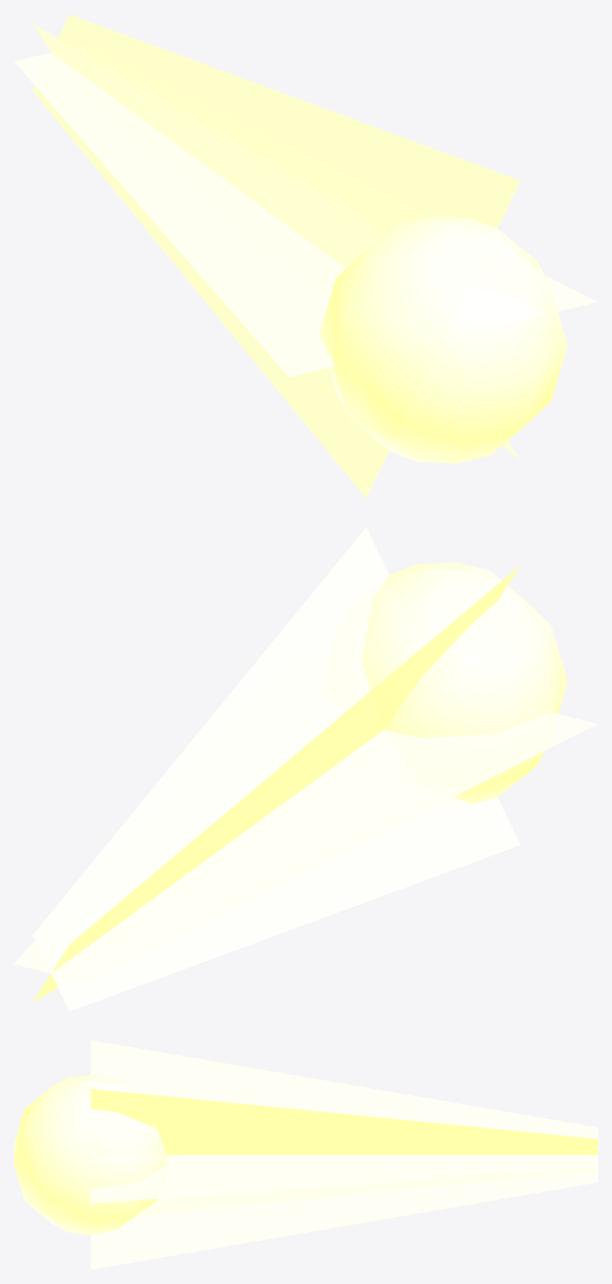
File: flash.gltf
The picture shows the model from 3 angles, top to bottom: view 1: azimuth 30°, elevation 25°; view 2: azimuth 150°, elevation 25°; view 3: azimuth 270°, elevation 25°; orthographic projection. The views are drawn at different scales.
Parts seen in each view (by area): view 1: flash; view 2: flash; view 3: flash.
Part boxes in pixels (left/top/right/bottom): flash: left=14, top=14, right=597, bottom=497; flash: left=14, top=528, right=597, bottom=1011; flash: left=14, top=1040, right=597, bottom=1269.
Bounding box in the file's own units: 0.1 × 0.0866 × 0.2533.
